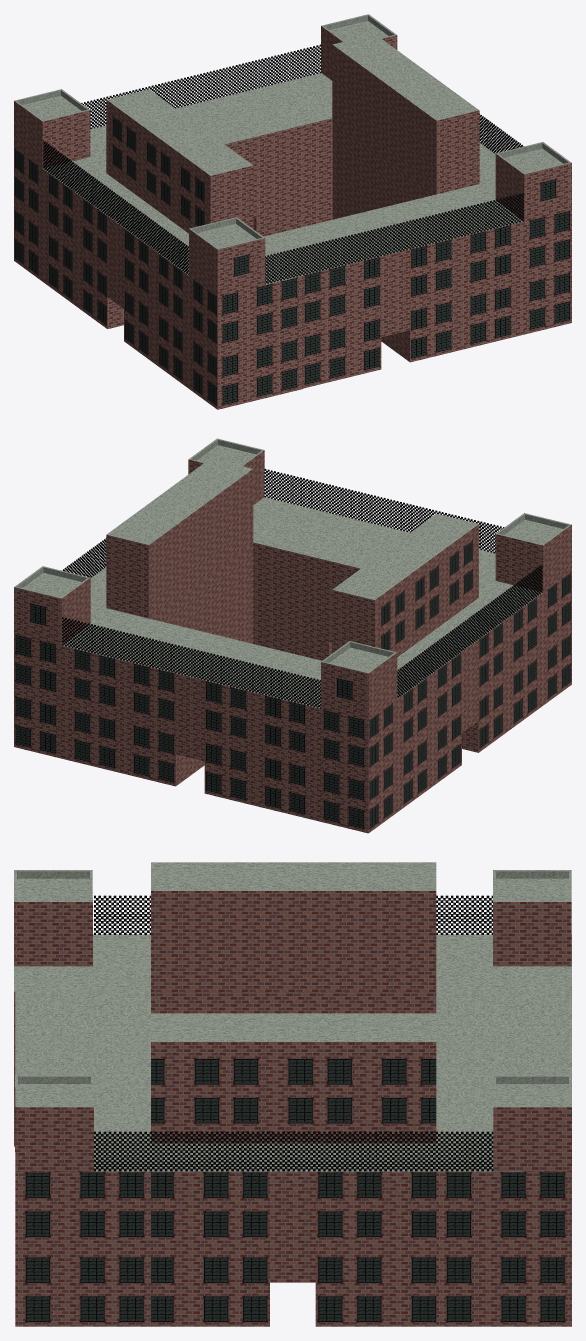
File: BGN_BASE BUILD.fbx
The picture shows the model from 3 angles, top to bottom: view 1: azimuth 30°, elevation 25°; view 2: azimuth 150°, elevation 25°; view 3: azimuth 270°, elevation 25°; orthographic projection. The views are drawn at different scales.
Visible parts, largest first — view 1: BGN_BASE_BUILD; view 2: BGN_BASE_BUILD; view 3: BGN_BASE_BUILD.
Part boxes in pixels (bbox=[...]): BGN_BASE_BUILD: bbox=[14, 14, 571, 409]; BGN_BASE_BUILD: bbox=[14, 438, 571, 833]; BGN_BASE_BUILD: bbox=[14, 862, 571, 1326].
Bounding box in the file's own units: 3664 × 1843 × 3642.
Materials: 4 (4 with a texture image).
